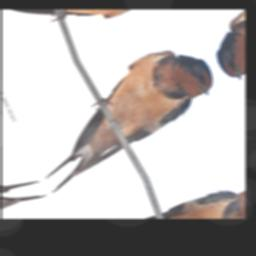Swallow: (13, 32, 230, 195)
